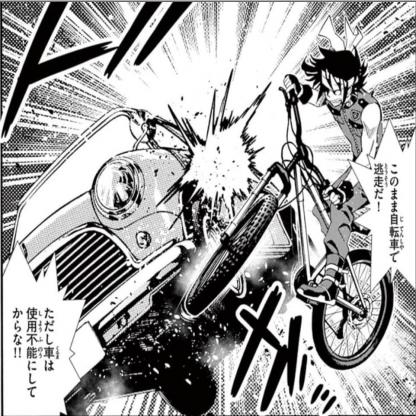sub: (23, 305, 39, 401), (387, 161, 401, 263), (42, 306, 57, 375), (10, 305, 24, 361), (373, 160, 385, 215)
